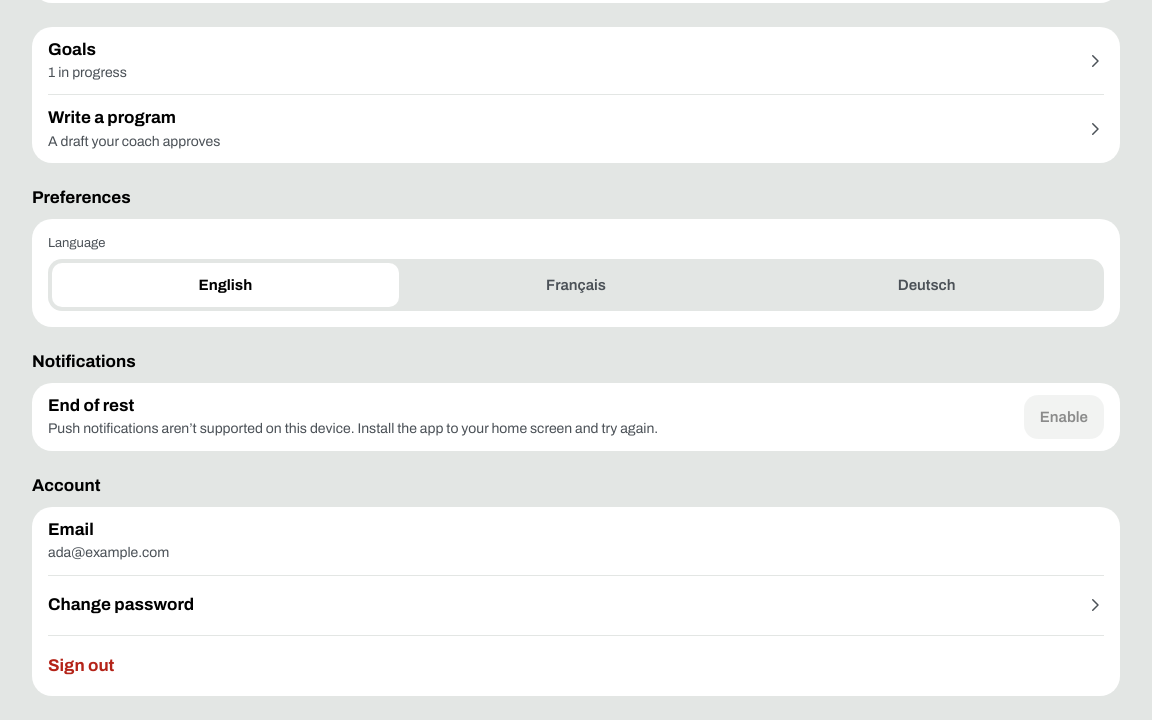
Scenario: StudentProfile › change-password dialog: rejects passwords shorter than 8 characters, without a sign-in
(page scrolled)
Step 1. Click the button "Change password" → (121, 605), box [48,576,1104,636]
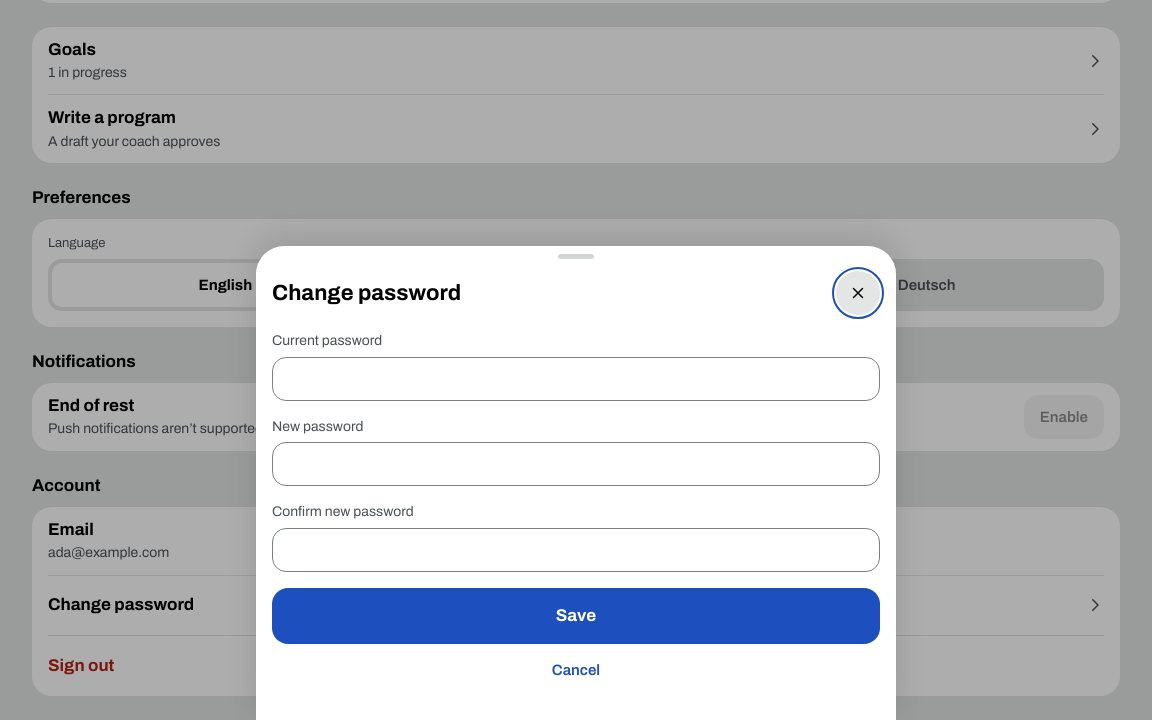
Step 2. Type "oldpassword1" into the password field labelled "Current password" → (576, 379), box [272,357,880,401]
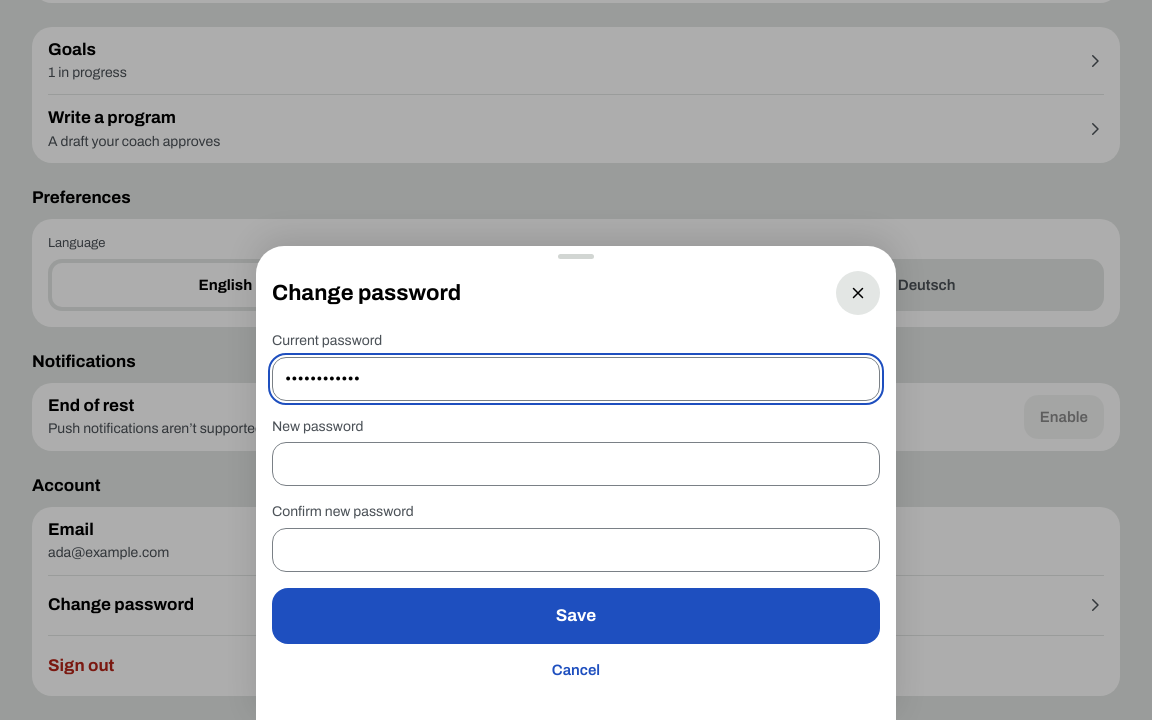
Step 3. Type "short" into the password field labelled "New password" → (576, 464), box [272,442,880,486]
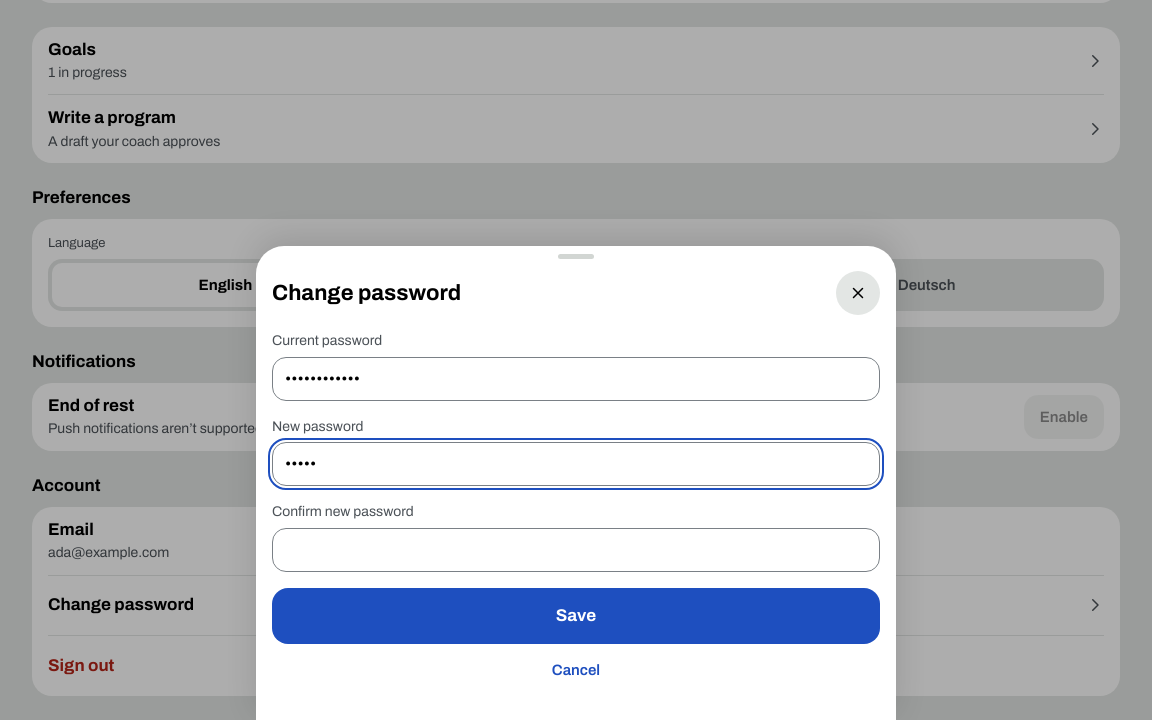
Step 4. Type "short" into the password field labelled "Confirm new password" → (576, 550), box [272,528,880,572]
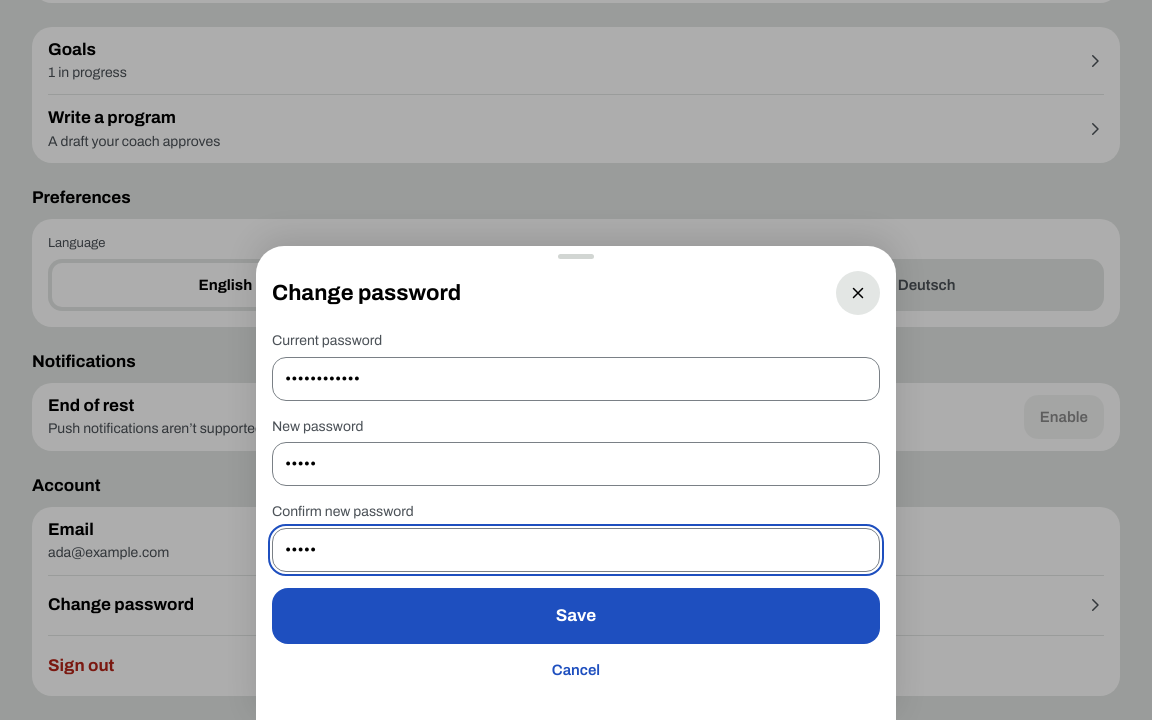
Step 5. Click the button "Save" → (576, 616), box [272,588,880,644]
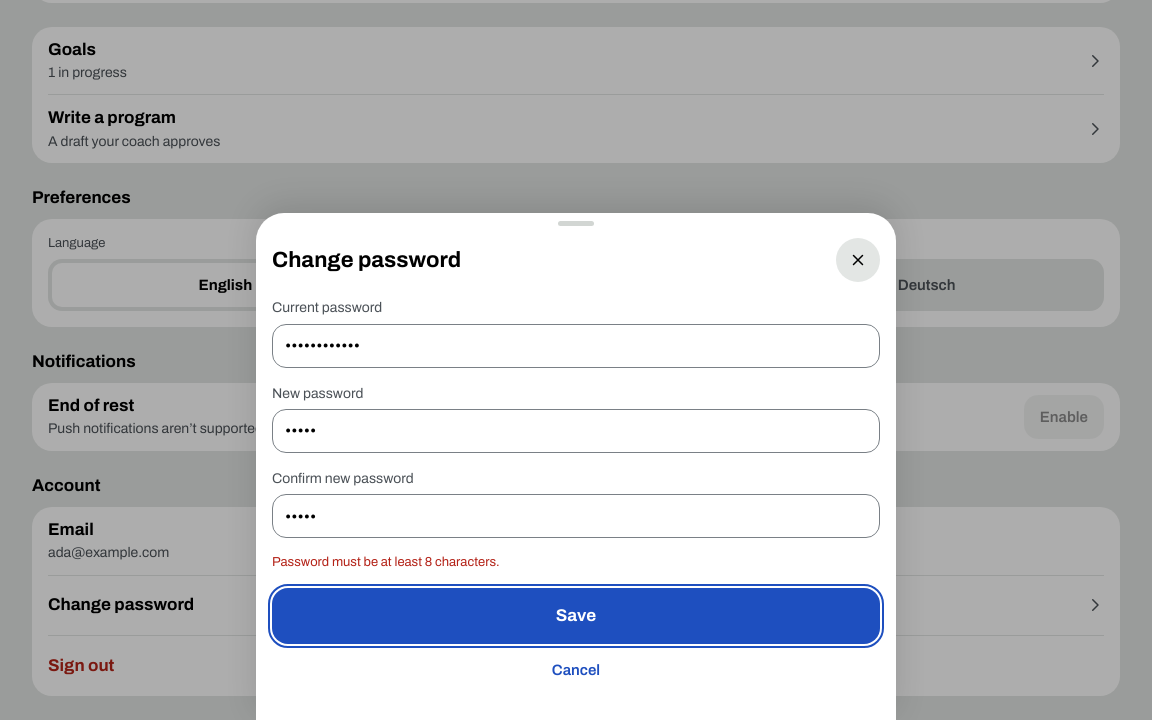
Now the text "Password must be at least 8 characters." is shown, box [272,556,500,570]
